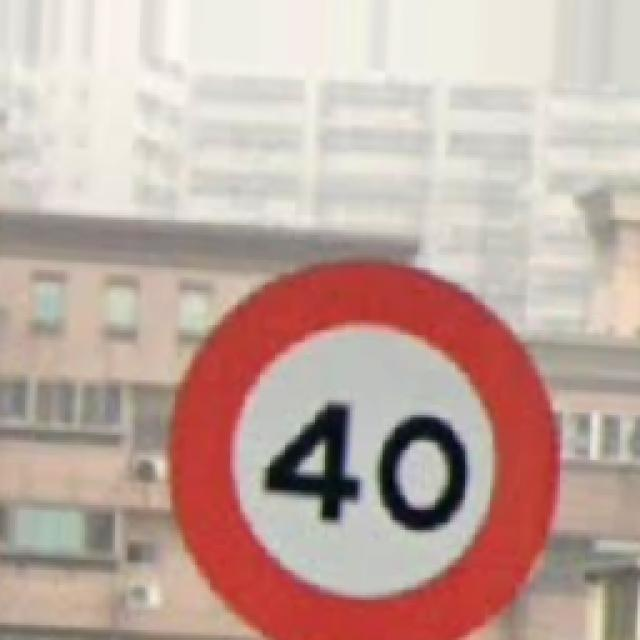Speed Limit -40-: (170, 262, 558, 638)
